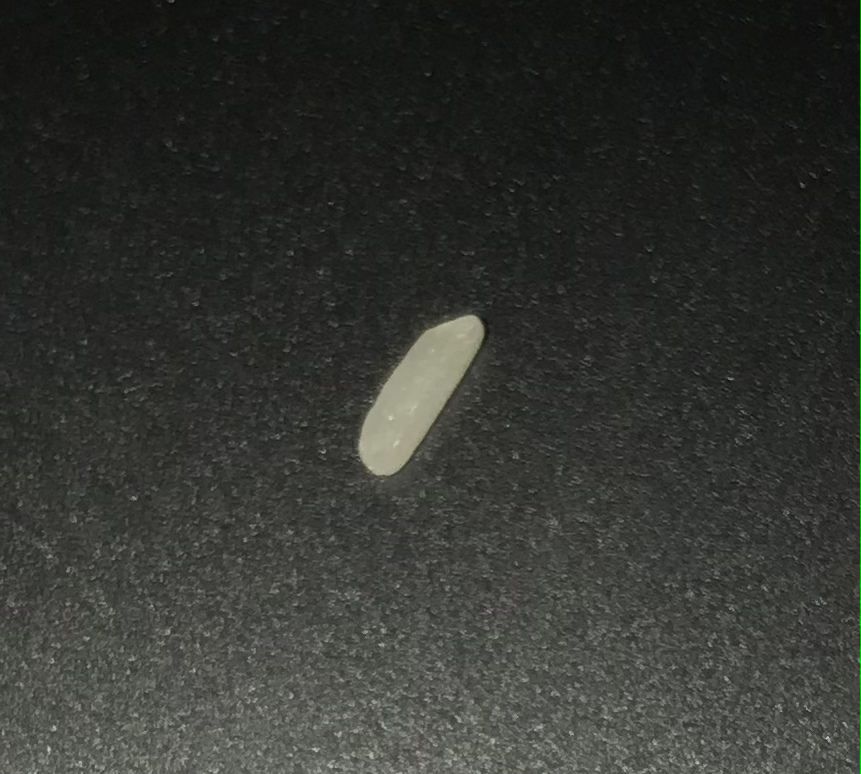Gao Tam Thom: (349, 298, 495, 483)
